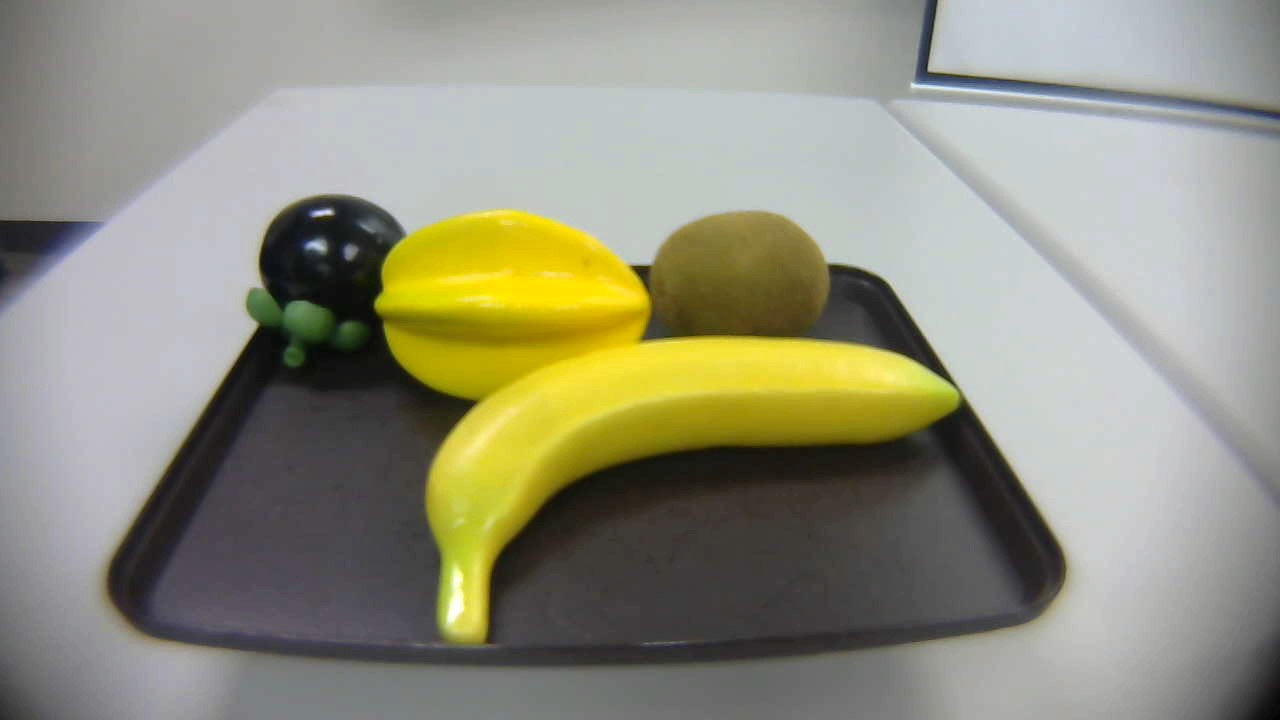banana: (418, 333, 962, 648)
kiwi fruit: (630, 199, 838, 351)
mangosteen: (245, 191, 410, 375)
star fruit: (368, 204, 655, 414)
